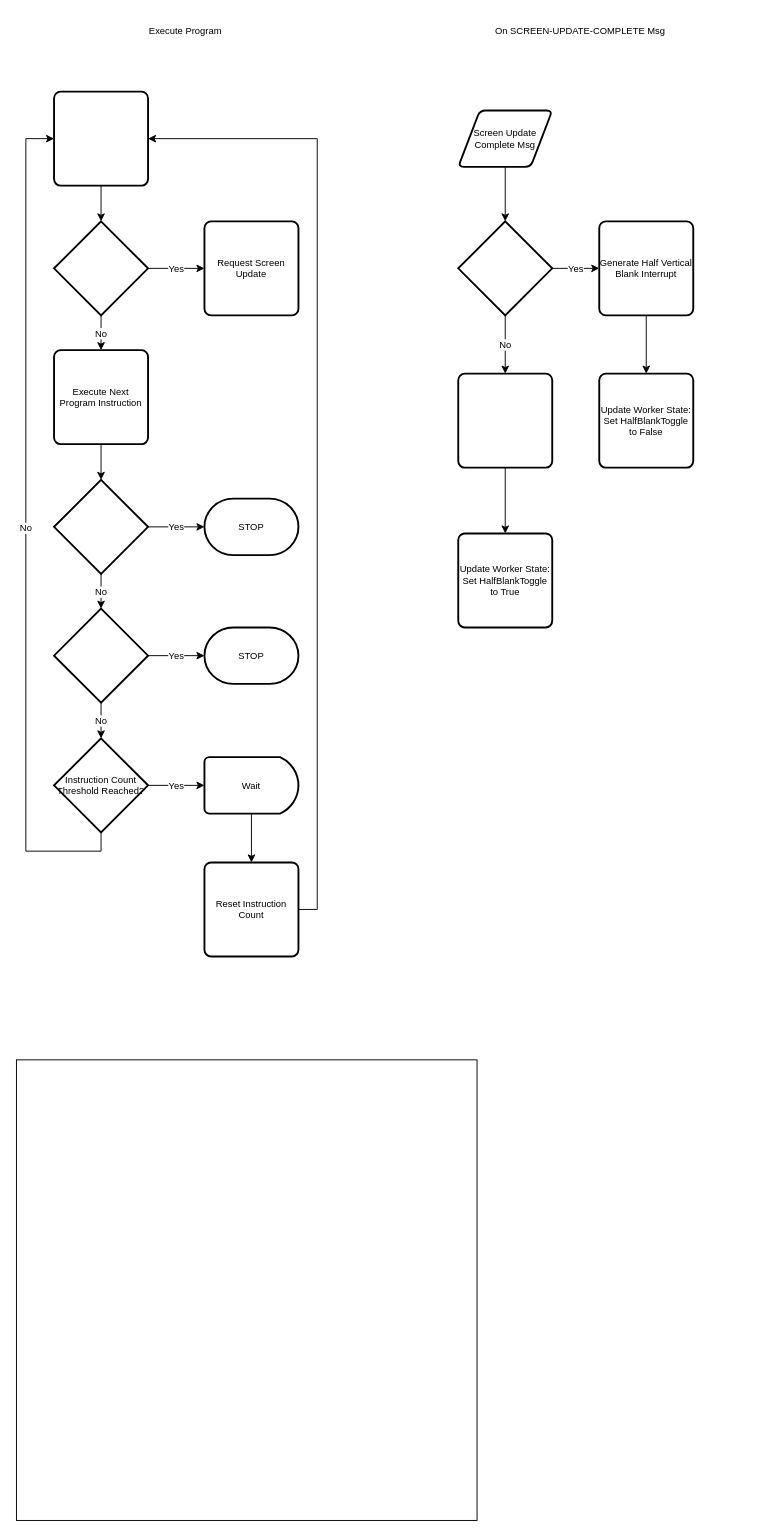
Some shapes in this 766 by 1537 pixel diagram are drawn without their labels. Here are the shapes that lost their labels. From the top down, the centre of each, then its label:
At (101,138): "Get Current Time".
At (101,268): "Interval Passed?".
At (505,268): "HalfBlank?".
At (505,420): "Generate Vertical Blank Interrupt".
At (101,526): "CPU Halted?".
At (101,655): "Break-point Reached?".
